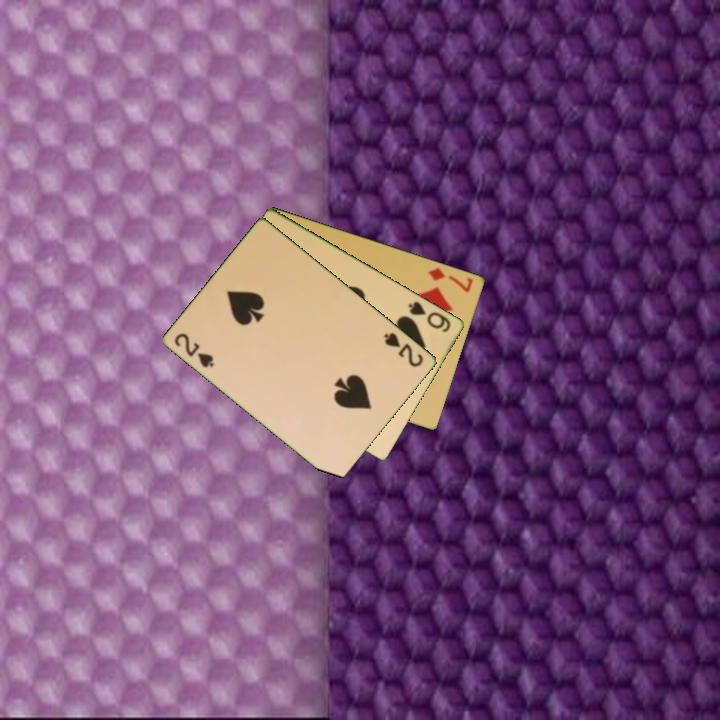2s: (171, 329, 217, 371), (380, 329, 427, 370)
6s: (405, 297, 454, 335)
7d: (425, 264, 476, 295)
